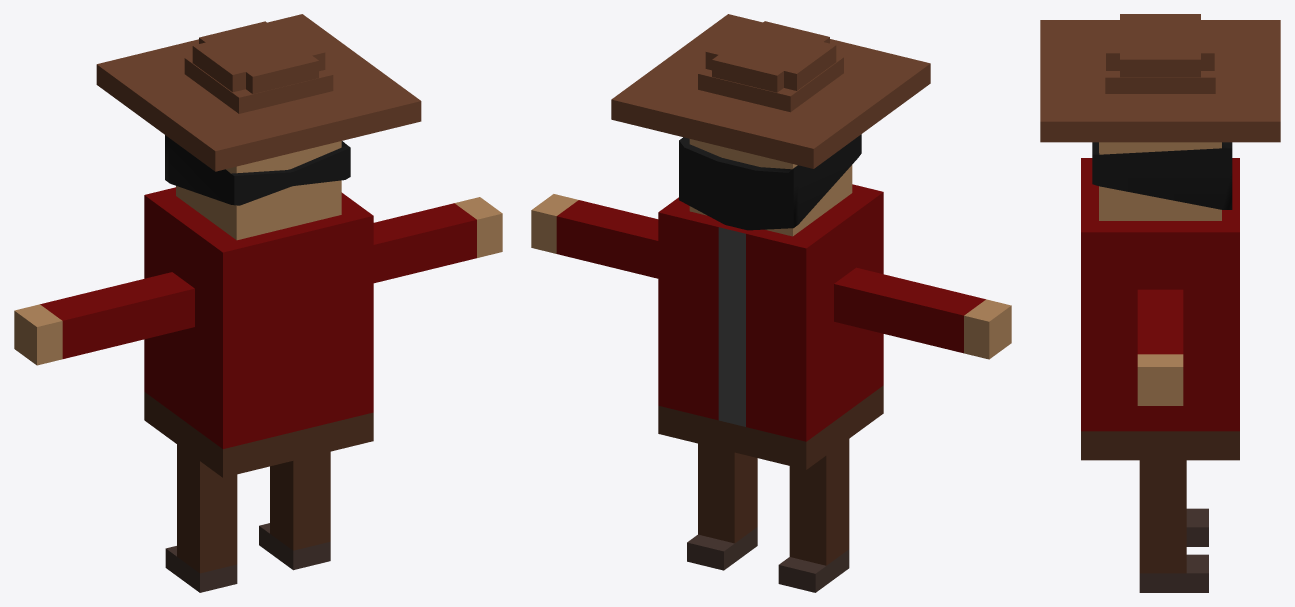
Rendered from Enemy.fbx.
The picture shows the model from 3 angles, left to right: view 1: azimuth 30°, elevation 25°; view 2: azimuth 150°, elevation 25°; view 3: azimuth 270°, elevation 25°; orthographic projection. The views are drawn at different scales.
Parts seen in each view (by area): view 1: polySurface646; view 2: polySurface646; view 3: polySurface646.
Boxes of the visible parts, x1,y1,x2,y2 form: polySurface646: [14, 14, 502, 592]; polySurface646: [531, 14, 1011, 592]; polySurface646: [1040, 14, 1280, 592].
Bounding box in the file's own units: 4.7 × 5.01 × 2.08.
